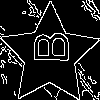B: (25, 30, 69, 64)
